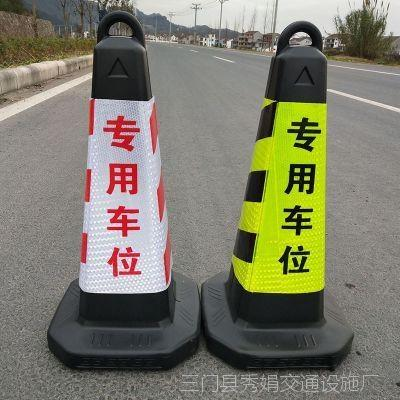cone_barrel: (43, 11, 190, 356), (202, 23, 346, 361)
